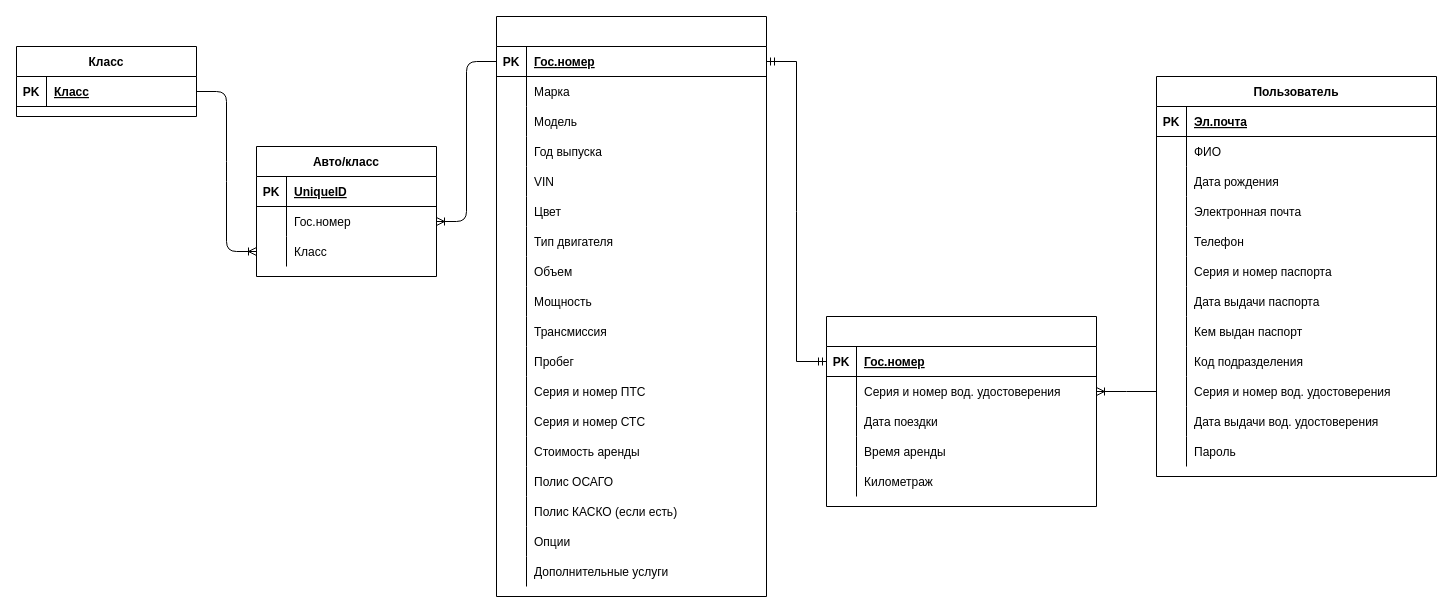
The diagram is 1453 pixels wide and 613 high, and some of its shapes have lost their labels. Here are the shapes that lost their labels. From the top down, the box of each, then its label:
(496, 16, 766, 596): Автомобиль
(826, 316, 1096, 506): Поездка
